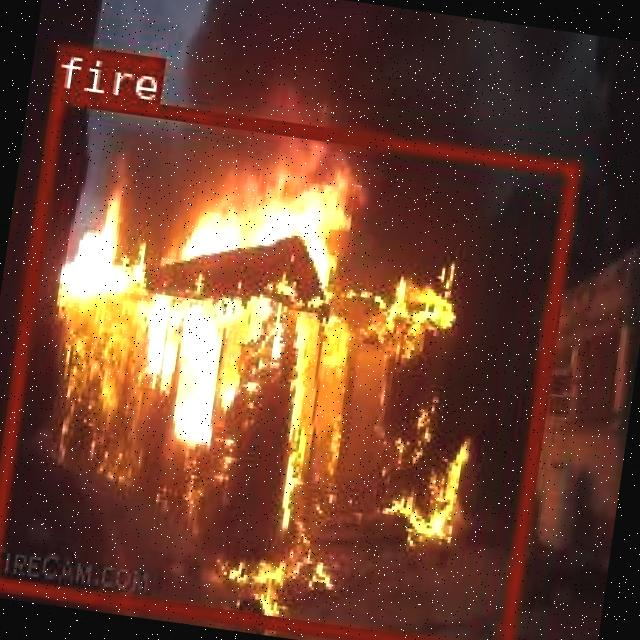fire: (0, 89, 578, 640)
